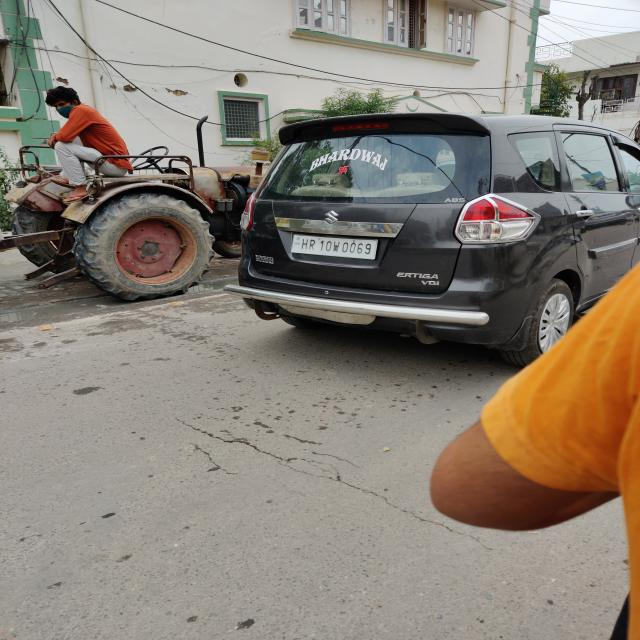Tractor: (0, 140, 221, 310)
cars: (224, 108, 640, 353)
